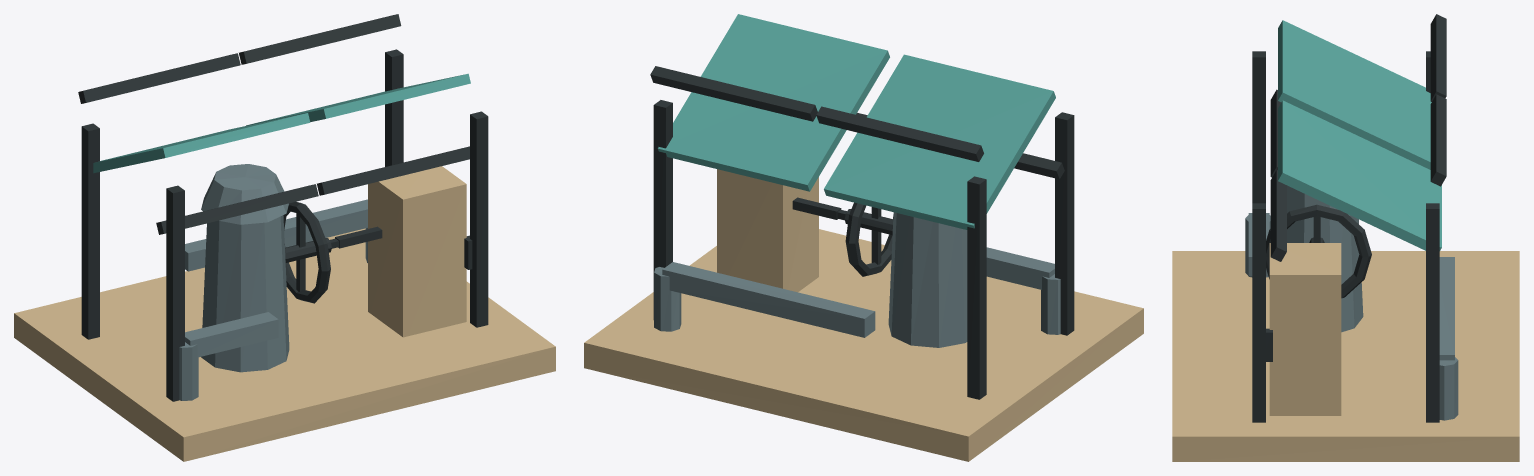
The model's file is Solar-pump.glb.
3 renders of one model, left to right at view 1: azimuth 30°, elevation 25°; view 2: azimuth 150°, elevation 25°; view 3: azimuth 270°, elevation 25°, orthographic. The views are drawn at different scales.
Parts seen in each view (by area): view 1: solar-pump-static-solar-pump-pale-concrete-pad, solar-pump-static-solar-pump-charcoal-frame-drive, solar-pump-static-solar-pump-muted-teal-pump-pipes, solar-pump-static-solar-pump-cream-control-cabinet, solar-pump-static-solar-pump-muted-blue-panels; view 2: solar-pump-static-solar-pump-pale-concrete-pad, solar-pump-static-solar-pump-muted-blue-panels, solar-pump-static-solar-pump-charcoal-frame-drive, solar-pump-static-solar-pump-muted-teal-pump-pipes, solar-pump-static-solar-pump-cream-control-cabinet; view 3: solar-pump-static-solar-pump-pale-concrete-pad, solar-pump-static-solar-pump-muted-blue-panels, solar-pump-static-solar-pump-charcoal-frame-drive, solar-pump-static-solar-pump-cream-control-cabinet, solar-pump-static-solar-pump-muted-teal-pump-pipes.
Boxes of the visible parts, bbox=[...] form: solar-pump-static-solar-pump-pale-concrete-pad: bbox=[14, 228, 555, 461]; solar-pump-static-solar-pump-charcoal-frame-drive: bbox=[78, 14, 488, 401]; solar-pump-static-solar-pump-muted-teal-pump-pipes: bbox=[179, 164, 367, 400]; solar-pump-static-solar-pump-cream-control-cabinet: bbox=[368, 166, 466, 337]; solar-pump-static-solar-pump-muted-blue-panels: bbox=[93, 73, 470, 173]; solar-pump-static-solar-pump-pale-concrete-pad: bbox=[584, 229, 1143, 461]; solar-pump-static-solar-pump-muted-blue-panels: bbox=[658, 14, 1055, 229]; solar-pump-static-solar-pump-charcoal-frame-drive: bbox=[650, 66, 1074, 399]; solar-pump-static-solar-pump-muted-teal-pump-pipes: bbox=[654, 212, 1060, 347]; solar-pump-static-solar-pump-cream-control-cabinet: bbox=[717, 169, 818, 292]; solar-pump-static-solar-pump-pale-concrete-pad: bbox=[1172, 251, 1519, 461]; solar-pump-static-solar-pump-muted-blue-panels: bbox=[1278, 20, 1441, 250]; solar-pump-static-solar-pump-charcoal-frame-drive: bbox=[1252, 14, 1446, 422]; solar-pump-static-solar-pump-cream-control-cabinet: bbox=[1269, 243, 1341, 415]; solar-pump-static-solar-pump-muted-teal-pump-pipes: bbox=[1245, 185, 1458, 420].
Size of the model in its own units: 3.8 by 2.63 by 3.
